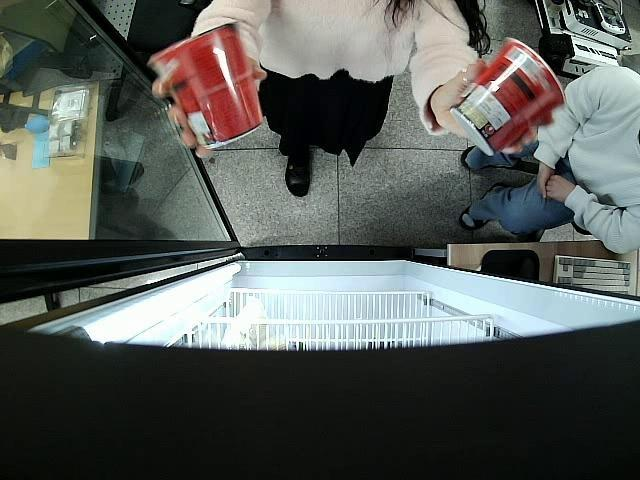02_shinRamen_S: (148, 18, 263, 150), (451, 40, 564, 156)
